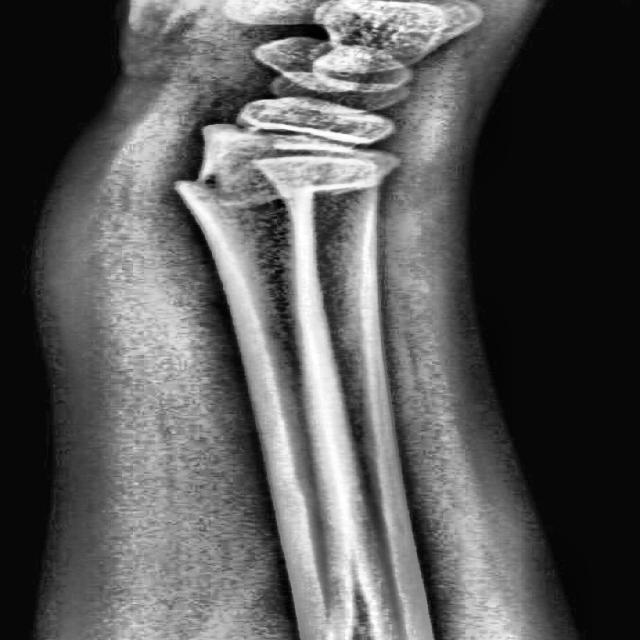angle: (170, 170, 260, 210)
